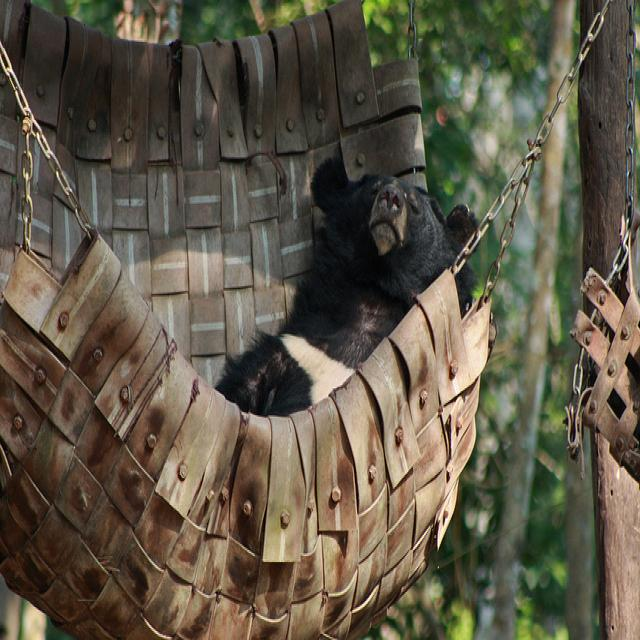Bear: (221, 133, 486, 434)
